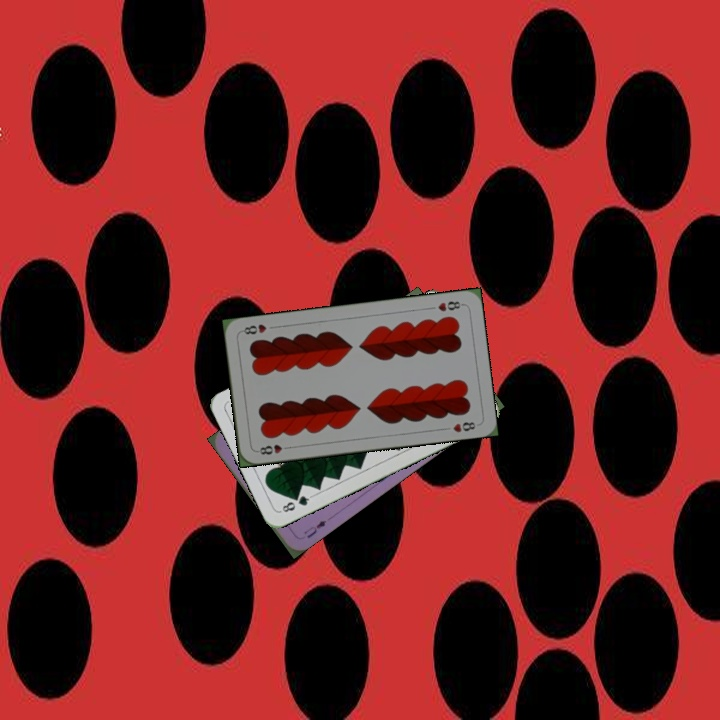EU: (299, 516, 329, 541)
G8: (276, 491, 315, 515)
H8: (253, 440, 293, 457), (434, 297, 466, 314)
